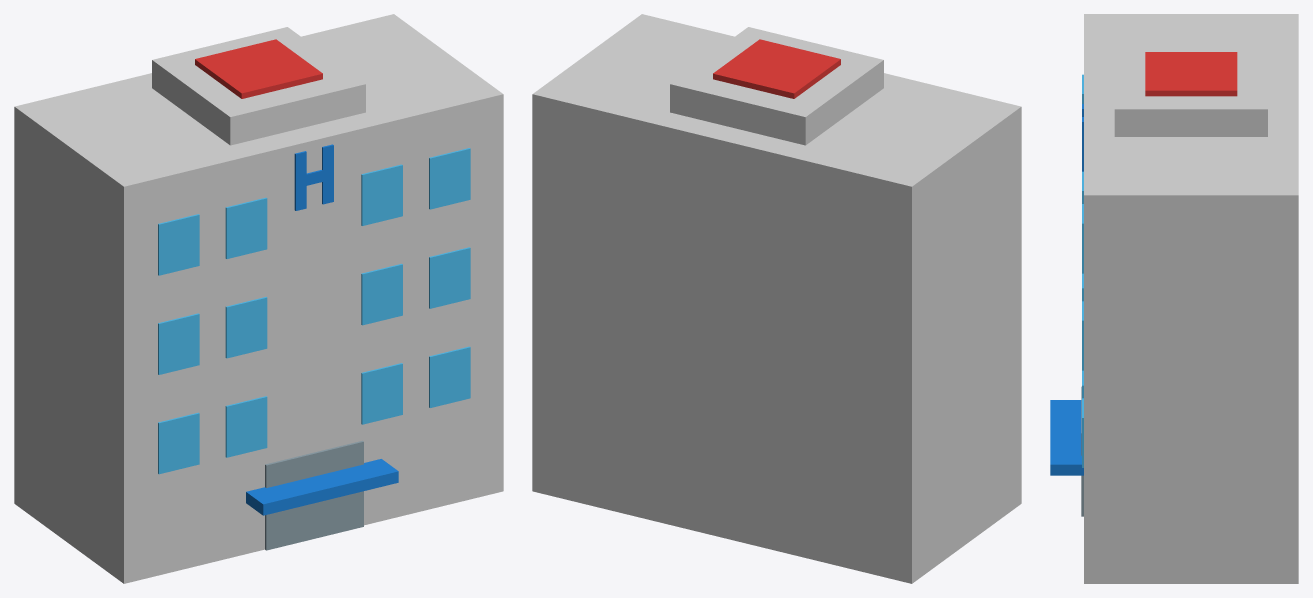
The model's file is sjukhus.glb.
3 views of the same model, side by side, from view 1: azimuth 30°, elevation 25°; view 2: azimuth 150°, elevation 25°; view 3: azimuth 270°, elevation 25° (orthographic). The views are drawn at different scales.
Parts seen in each view (by area): view 1: sjukhus; view 2: sjukhus; view 3: sjukhus.
Part boxes in pixels (bbox=[...]): sjukhus: bbox=[14, 14, 503, 583]; sjukhus: bbox=[532, 14, 1021, 583]; sjukhus: bbox=[1050, 14, 1298, 583].
Size of the model in its own units: 1.4 by 1.52 by 0.81.
